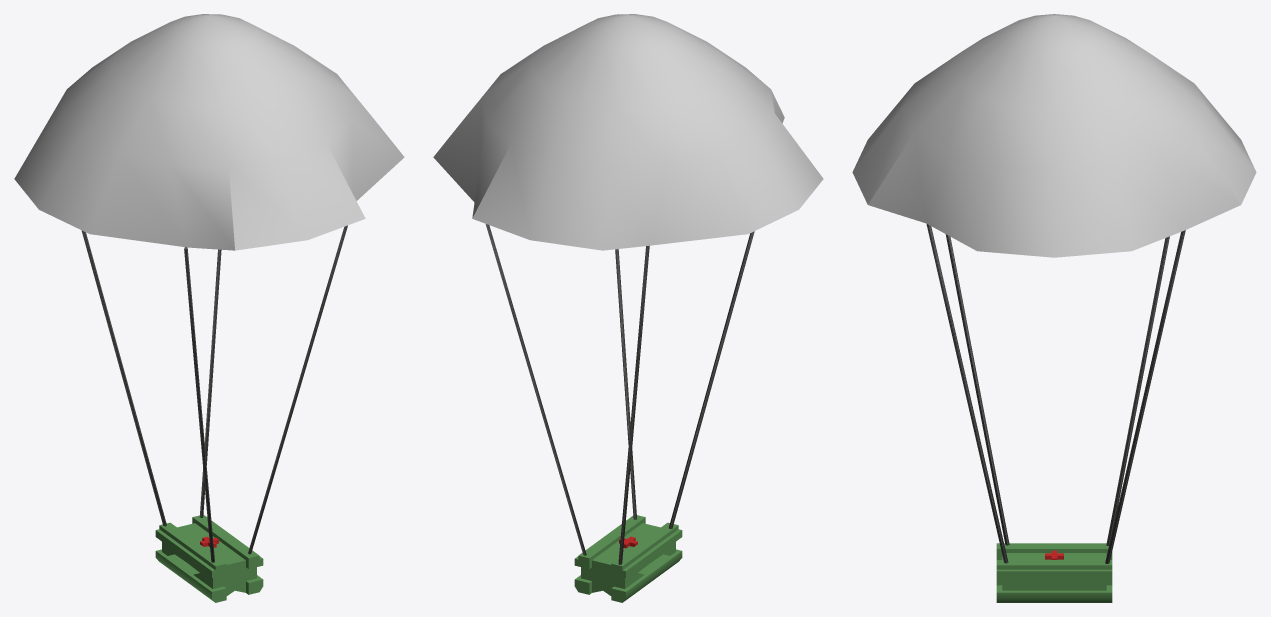
Rendered from Аптечка с парашутом.fbx.
3 renders of one model, left to right at view 1: azimuth 30°, elevation 25°; view 2: azimuth 150°, elevation 25°; view 3: azimuth 270°, elevation 25°, orthographic. The views are drawn at different scales.
Visible parts, largest first — view 1: Объект_Диск, Объект_Куб, Объект_Куб_5, Объект_Куб_3, Объект_Куб_4, Объект_Куб_6; view 2: Объект_Диск, Объект_Куб, Объект_Куб_3, Объект_Куб_5, Объект_Куб_6, Объект_Куб_4; view 3: Объект_Диск, Объект_Куб, Объект_Куб_4, Объект_Куб_6, Объект_Куб_5, Объект_Куб_3.
Part boxes in pixels (left/top/right/bottom): Объект_Диск: left=14, top=14, right=404, bottom=250; Объект_Куб: left=155, top=514, right=263, bottom=602; Объект_Куб_5: left=184, top=247, right=214, bottom=562; Объект_Куб_3: left=81, top=230, right=166, bottom=526; Объект_Куб_4: left=248, top=225, right=347, bottom=554; Объект_Куб_6: left=199, top=249, right=221, bottom=517; Объект_Диск: left=433, top=14, right=823, bottom=250; Объект_Куб: left=574, top=515, right=682, bottom=602; Объект_Куб_3: left=618, top=245, right=649, bottom=564; Объект_Куб_5: left=669, top=231, right=754, bottom=528; Объект_Куб_6: left=485, top=224, right=586, bottom=555; Объект_Куб_4: left=615, top=249, right=636, bottom=519; Объект_Диск: left=852, top=14, right=1256, bottom=257; Объект_Куб: left=996, top=543, right=1112, bottom=602; Объект_Куб_4: left=926, top=223, right=1008, bottom=563; Объект_Куб_6: left=1105, top=230, right=1185, bottom=563; Объект_Куб_5: left=945, top=234, right=1009, bottom=545; Объект_Куб_3: left=1106, top=236, right=1169, bottom=545.
Bounding box in the file's own units: 774 × 1216 × 774.
Materials: 4 (1 with a texture image).
